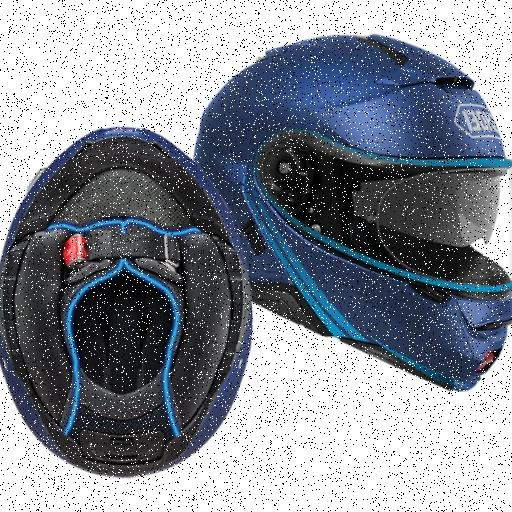Helmet: (196, 36, 511, 389), (0, 128, 251, 475)
